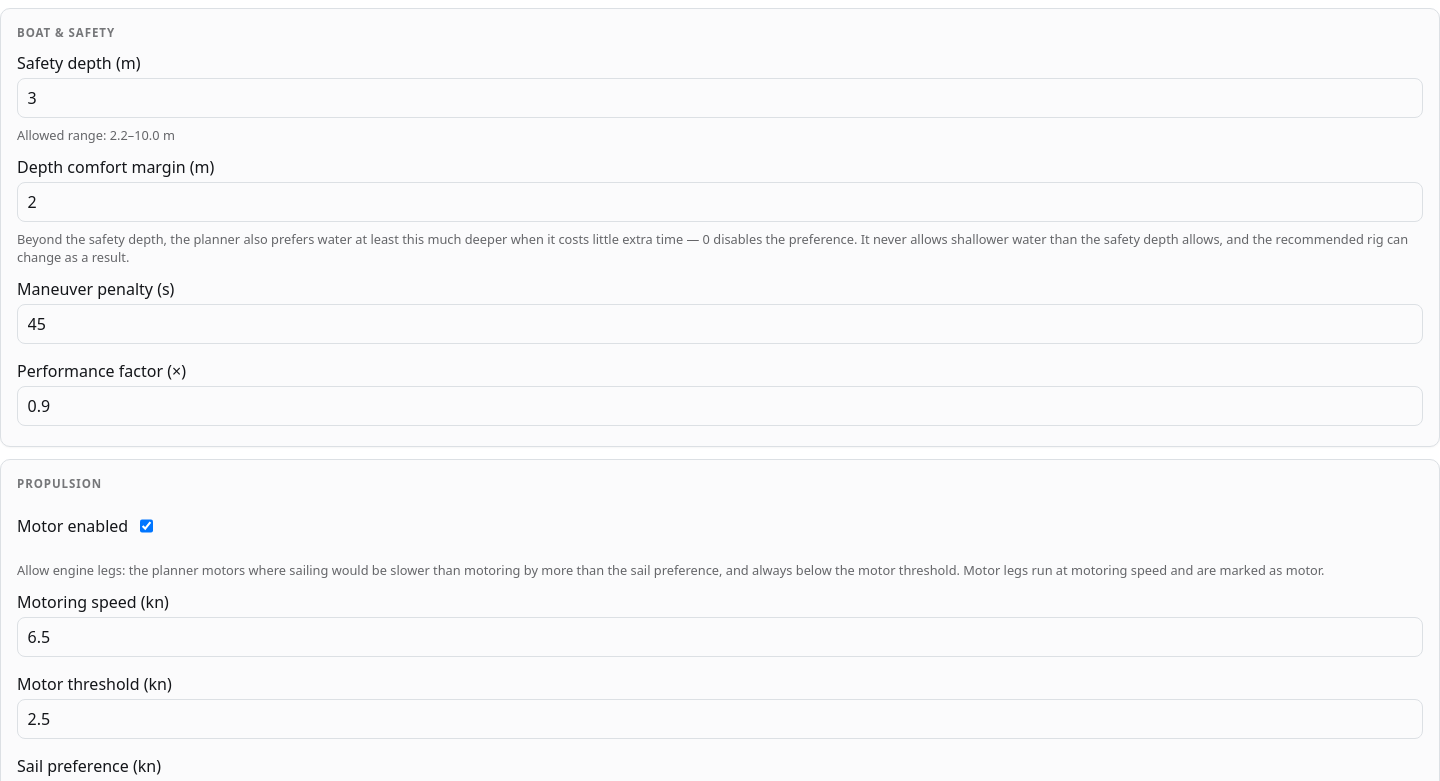
Test: SettingsPanel (#299 Boat tab) › Boat & safety group › clamps performanceFactor to its 0.5-1.1 bounds
(page scrolled)
Replace the text in the number field labelled "Performance factor (×)" with "2". click: x=720, y=406
box: [17,386,1423,426]
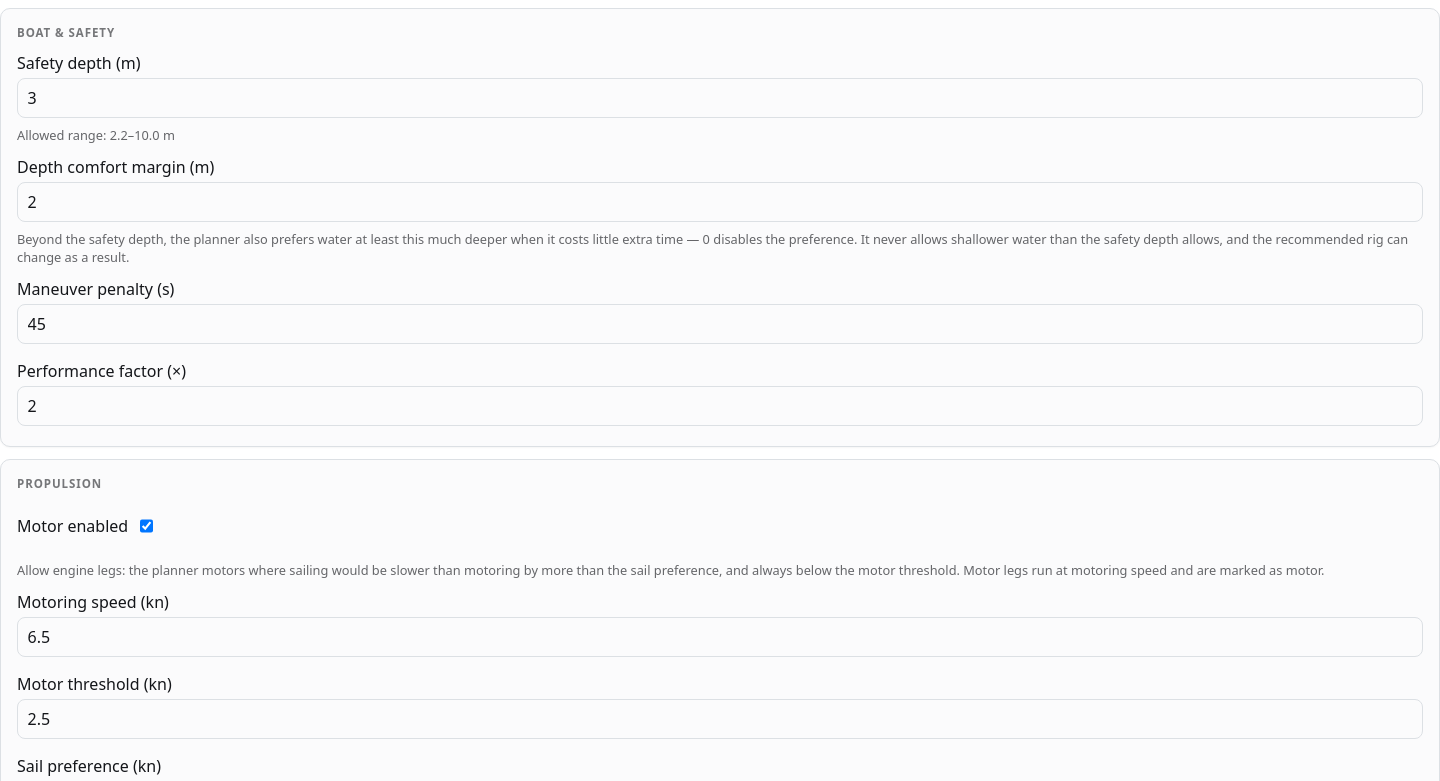
Leave the number field labelled "Performance factor (×)", box [17,386,1423,426]
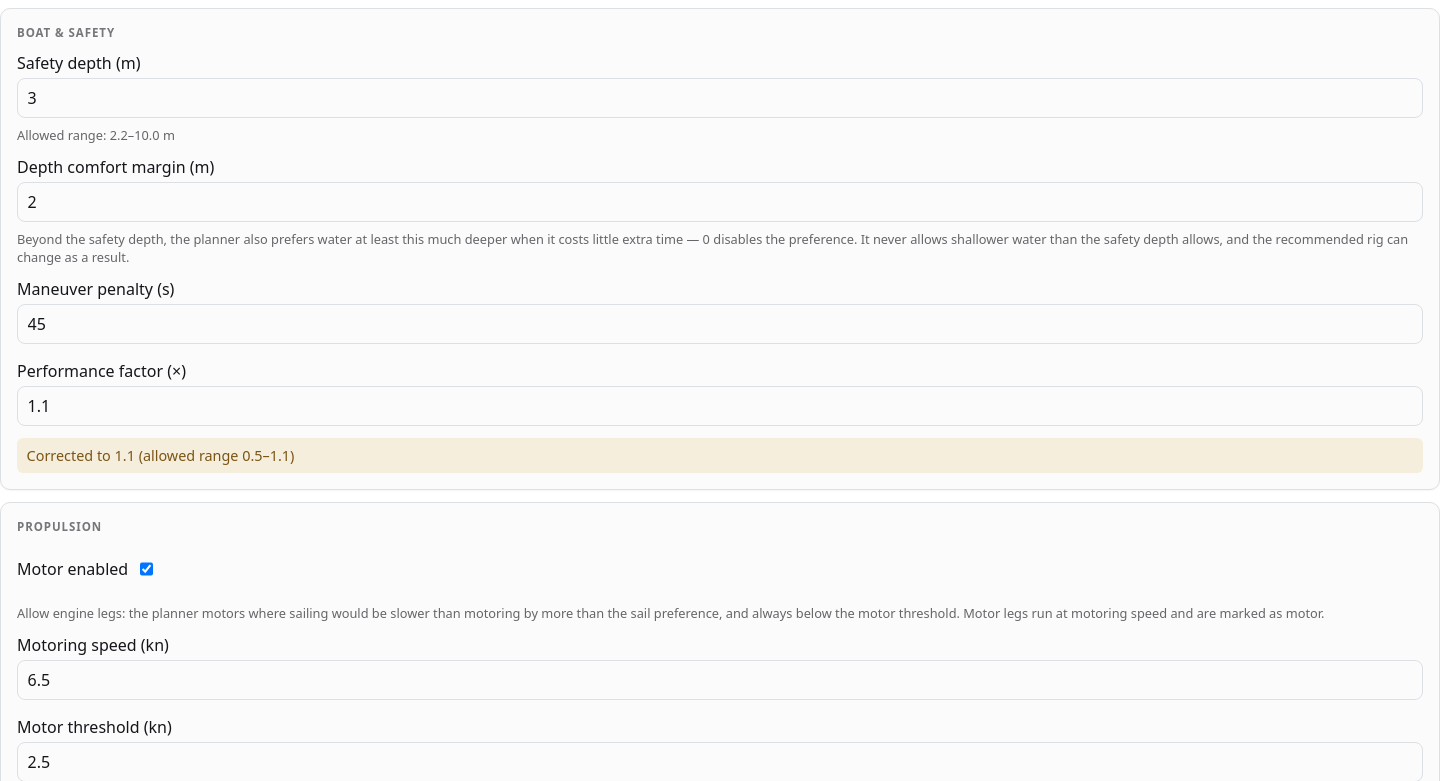
Now the number field labelled "Performance factor (×)" holds "1.1", box [17,386,1423,426]
